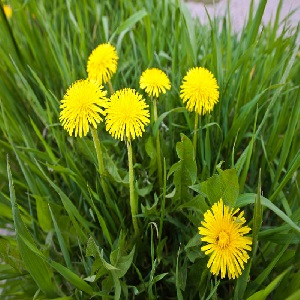dandelion: (200, 206, 251, 277), (61, 81, 105, 133), (107, 92, 146, 135), (182, 69, 220, 111), (86, 44, 117, 82), (140, 67, 168, 94)
